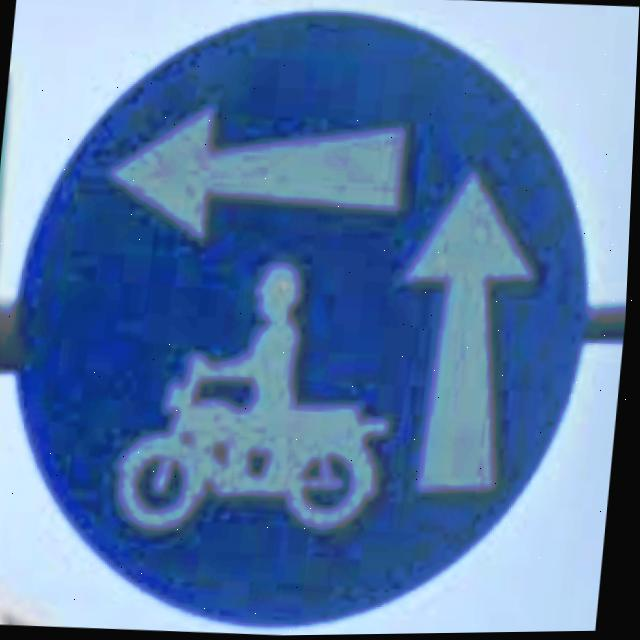twostageturn: (14, 12, 592, 630)
